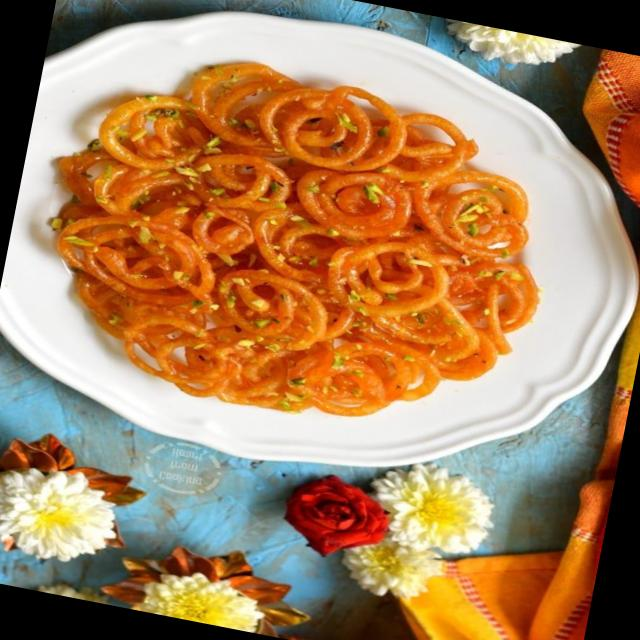jalebi: (37, 42, 558, 446)
